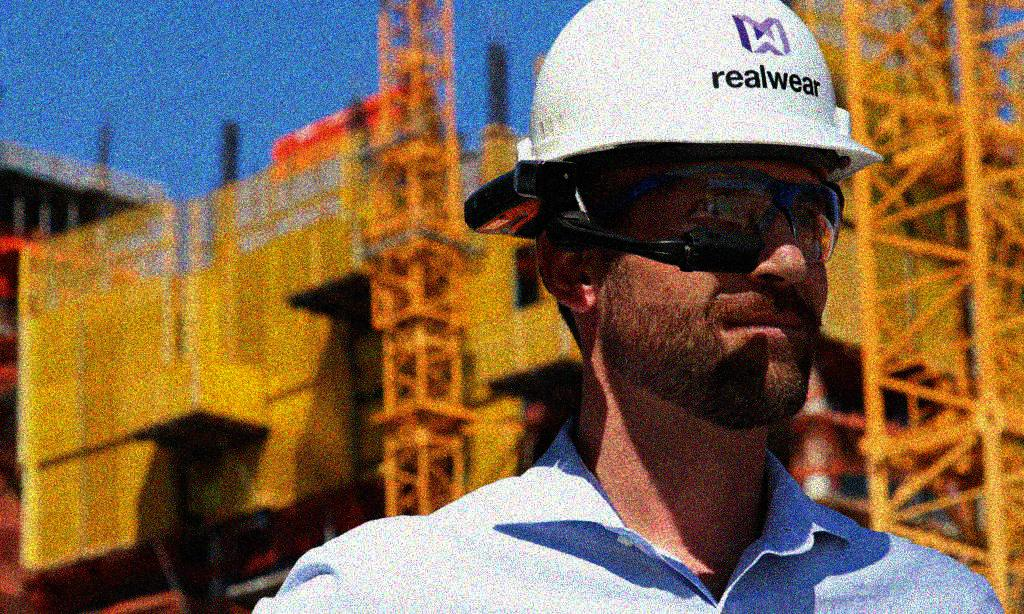helmet: (458, 1, 889, 425)
